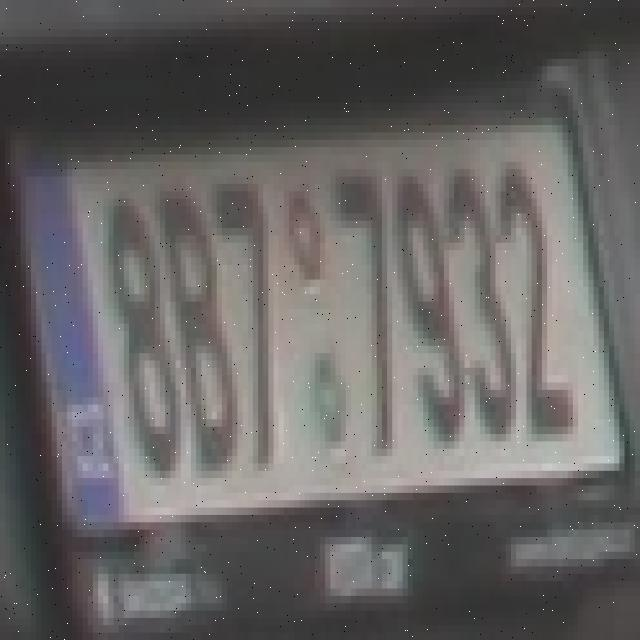2: (498, 158, 576, 430)
3: (446, 162, 514, 427)
7: (216, 180, 278, 467), (336, 165, 398, 452)
8: (101, 187, 178, 482)
9: (395, 170, 462, 442)
B: (157, 184, 235, 471)
